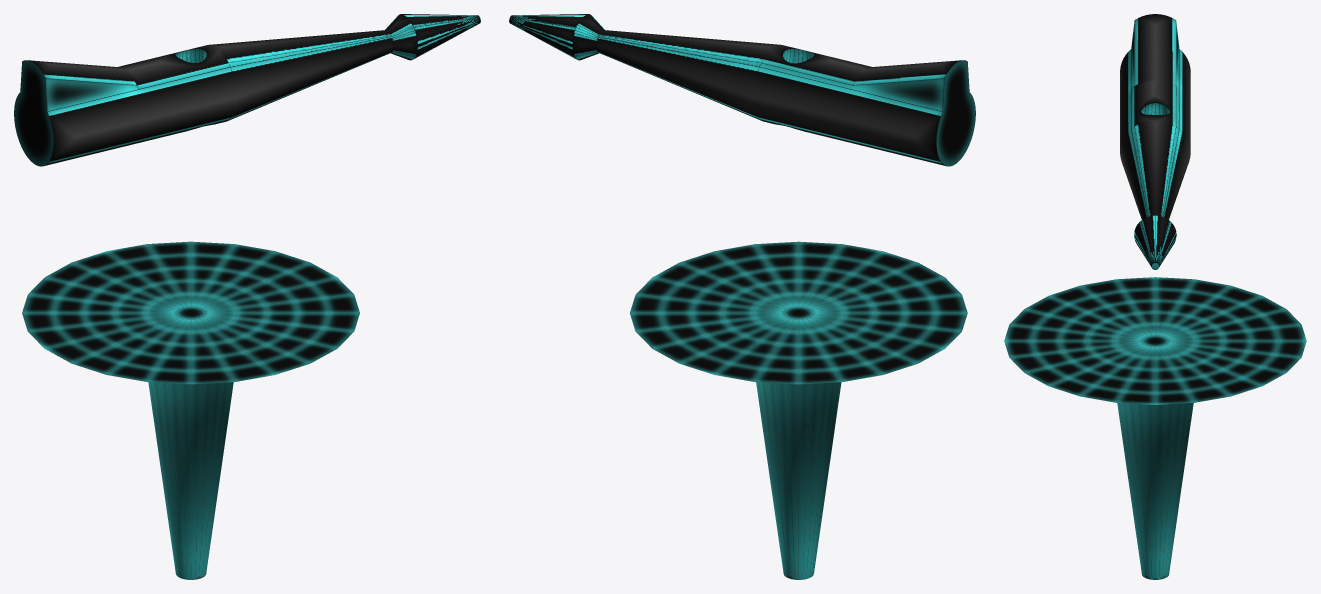
Rendered from SlowMorph.FBX.
The picture shows the model from 3 angles, left to right: view 1: azimuth 30°, elevation 25°; view 2: azimuth 150°, elevation 25°; view 3: azimuth 270°, elevation 25°; orthographic projection. The views are drawn at different scales.
Parts seen in each view (by area): view 1: Cone002, Cylinder001; view 2: Cone002, Cylinder001; view 3: Cone002, Cylinder001.
Part boxes in pixels (x1,y1,x2,y2): Cone002: (22,241,359,579); Cylinder001: (14,14,480,166); Cone002: (630,241,967,579); Cylinder001: (509,14,975,166); Cone002: (1004,277,1306,579); Cylinder001: (1120,14,1190,269).
Size of the model in its own units: 77.84 by 51.2 by 91.76.
2 materials, 2 textured.
